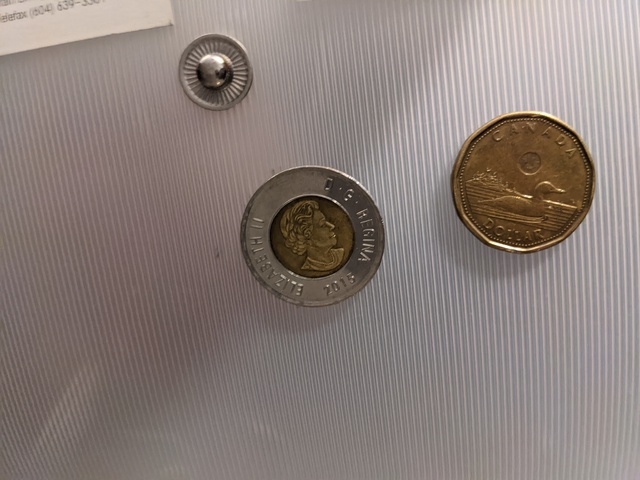loonie: (448, 100, 599, 266)
twonie: (238, 171, 398, 312)
